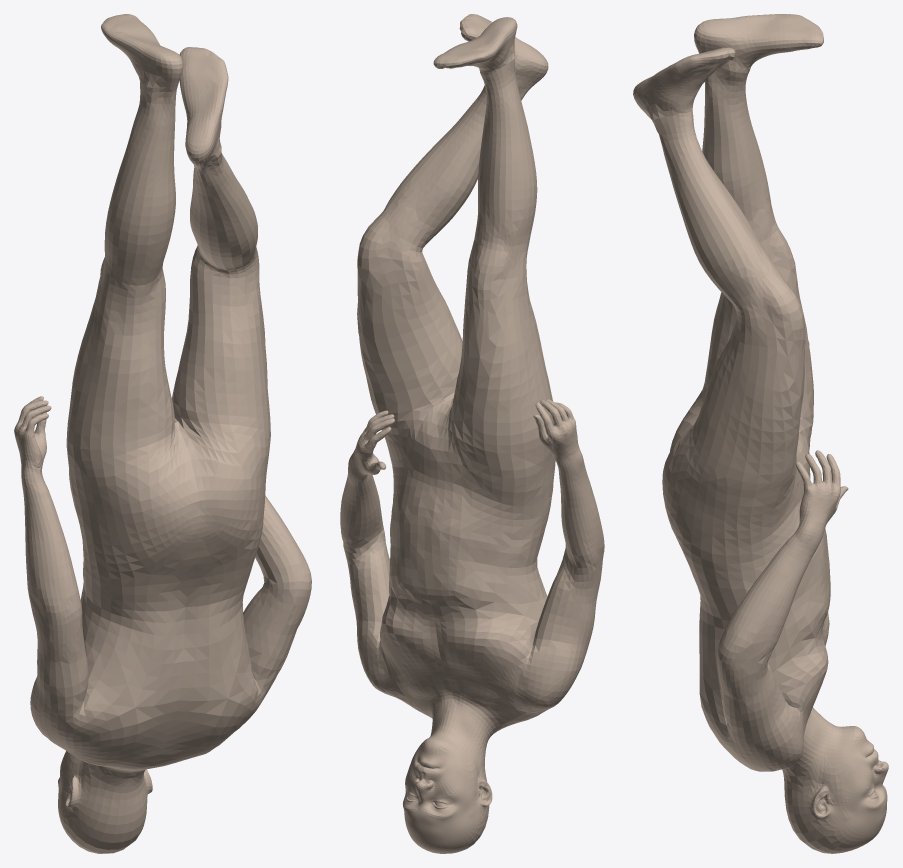
Rendered from avatar_man.glb.
3 renders of one model, left to right at view 1: azimuth 30°, elevation 25°; view 2: azimuth 150°, elevation 25°; view 3: azimuth 270°, elevation 25°, orthographic. The views are drawn at different scales.
Visible parts, largest first — view 1: world; view 2: world; view 3: world.
Part boxes in pixels (x1,y1,x2,y2): world: (14,14,311,853); world: (340,14,604,853); world: (633,14,888,853).
Bounding box in the file's own units: 0.5939 × 1.75 × 0.4907.
